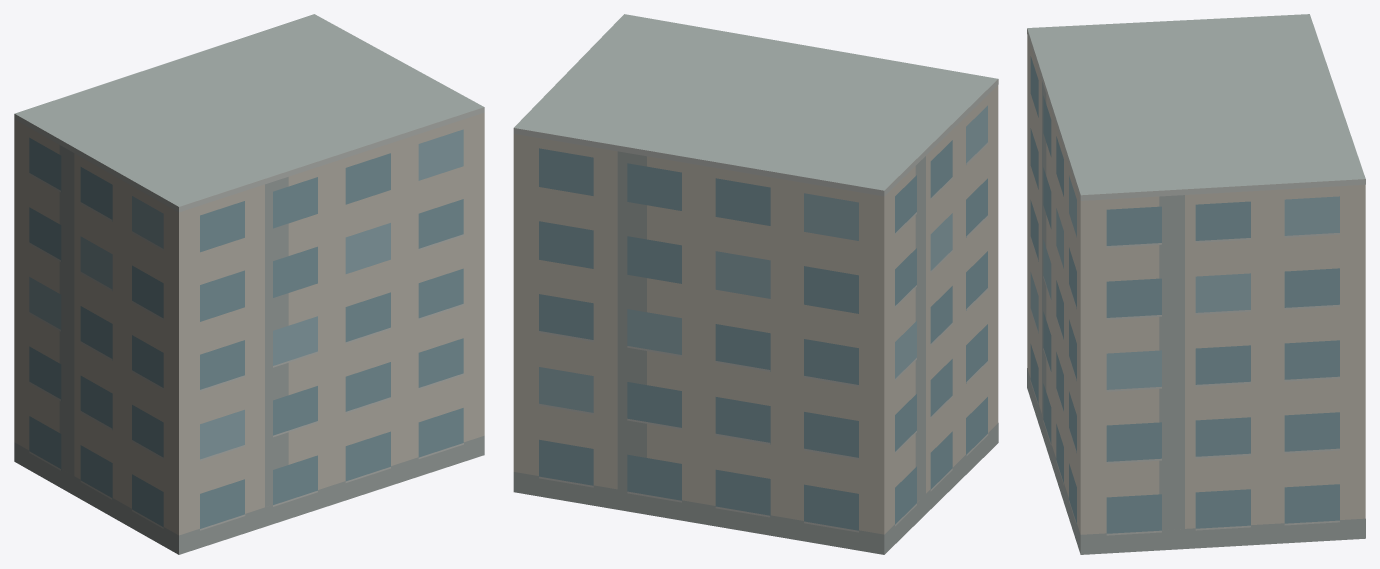
File: survey-upis-32632119.glb
The picture shows the model from 3 angles, left to right: view 1: azimuth 30°, elevation 25°; view 2: azimuth 150°, elevation 25°; view 3: azimuth 270°, elevation 25°; orthographic projection. The views are drawn at different scales.
Visible parts, largest first — view 1: survey-upis-32632119.tmp; view 2: survey-upis-32632119.tmp; view 3: survey-upis-32632119.tmp.
Boxes of the visible parts, x1=… form: survey-upis-32632119.tmp: x1=14, y1=14, x2=484, y2=554; survey-upis-32632119.tmp: x1=513, y1=14, x2=998, y2=554; survey-upis-32632119.tmp: x1=1027, y1=14, x2=1365, y2=554.
Bounding box in the file's own units: 16.49 × 15.25 × 13.03.
